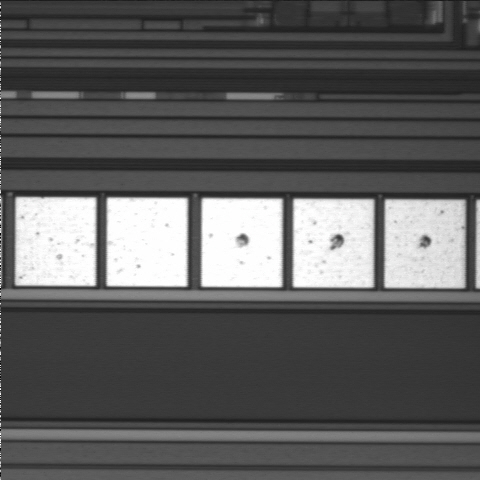pad: (201, 198, 283, 287), (15, 197, 96, 286), (107, 198, 188, 287), (293, 199, 374, 288), (385, 200, 465, 288)
